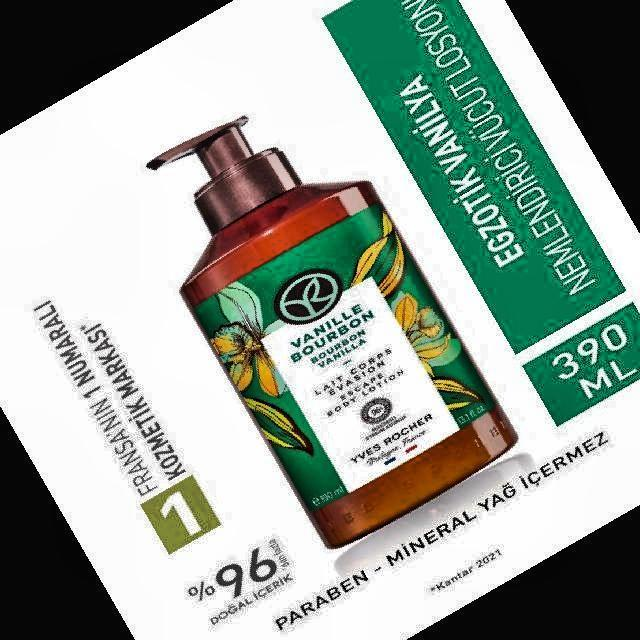plastic: (148, 118, 516, 547)
